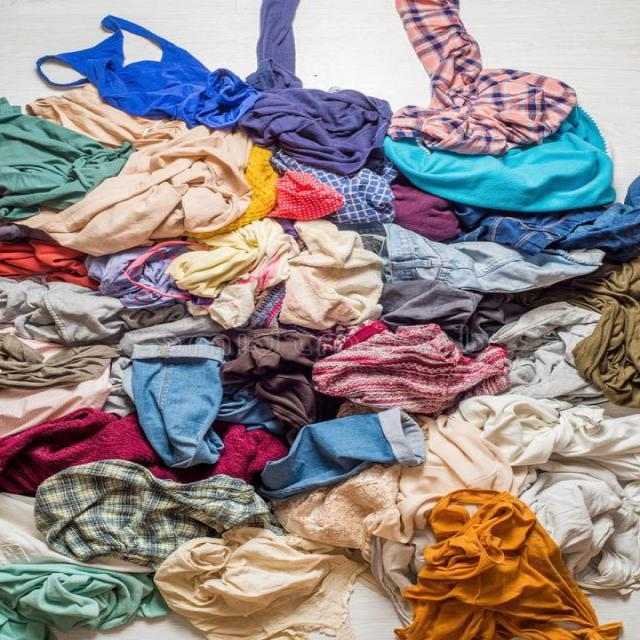clothes: (83, 0, 370, 241), (426, 481, 617, 640), (388, 100, 618, 218), (388, 0, 570, 145), (123, 229, 374, 327), (166, 527, 360, 640), (31, 462, 258, 558), (0, 67, 135, 224), (320, 313, 506, 413), (0, 271, 132, 397), (0, 553, 177, 640)
